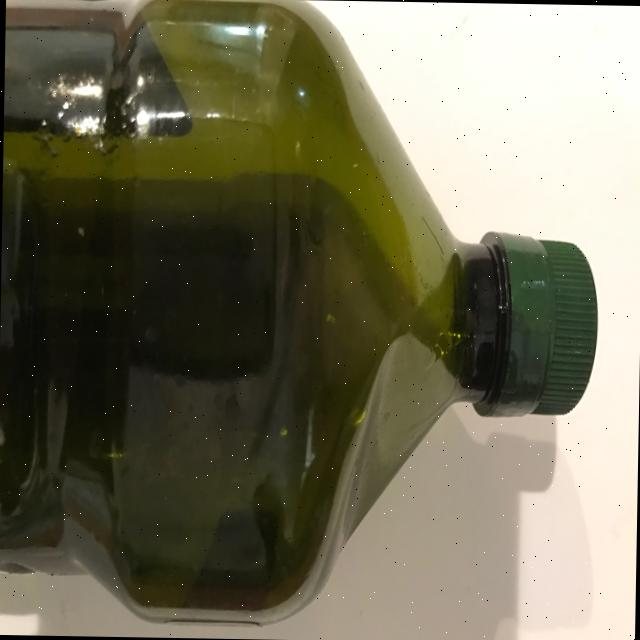plastic: (0, 0, 602, 633)
